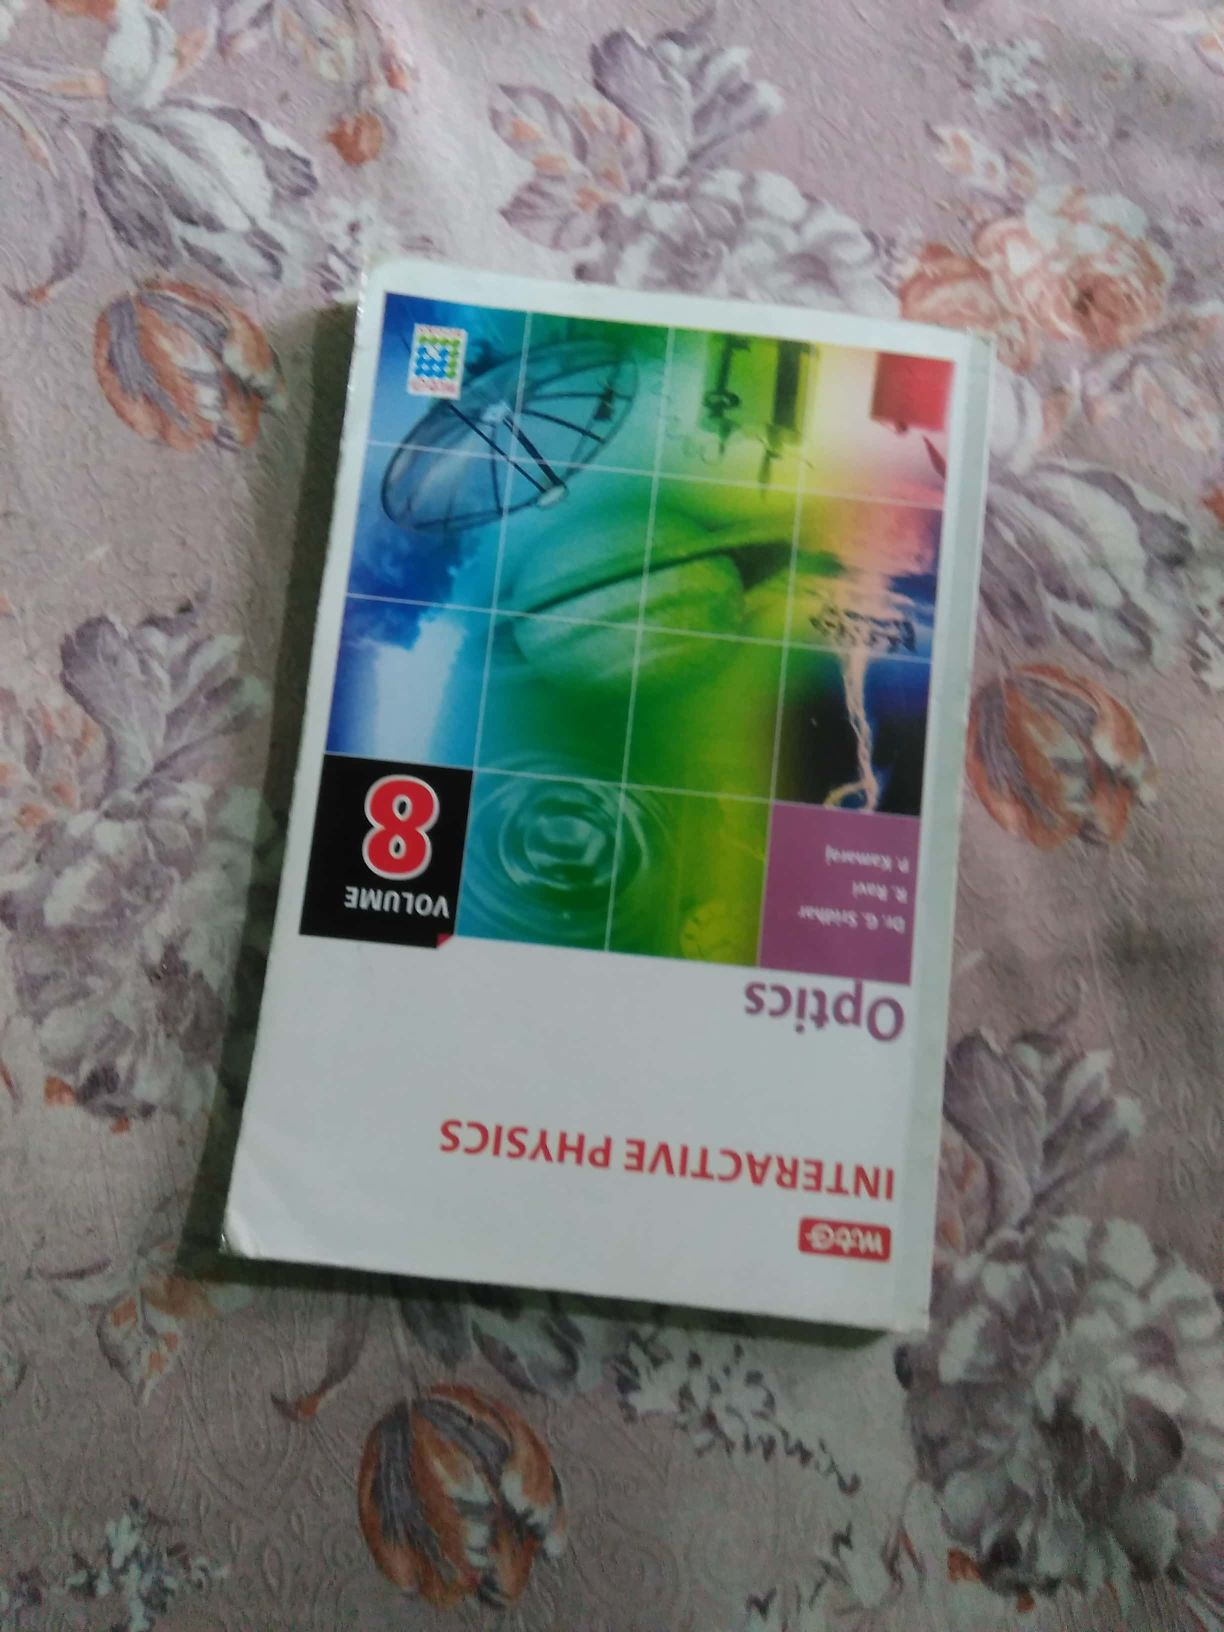optics: (237, 276, 1041, 1349)
